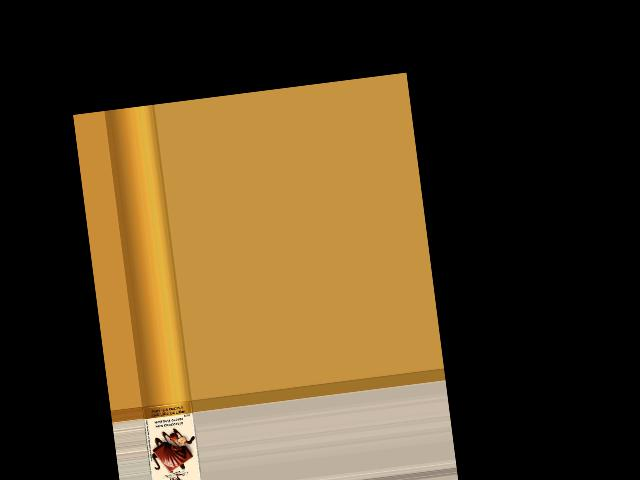chocolate: (142, 401, 206, 480)
